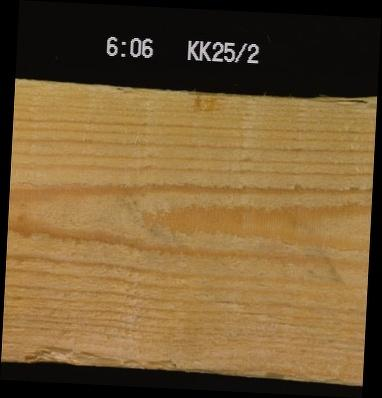wave: (19, 344, 183, 366), (311, 96, 376, 109)
